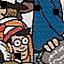waldo: (0, 24, 32, 60)
